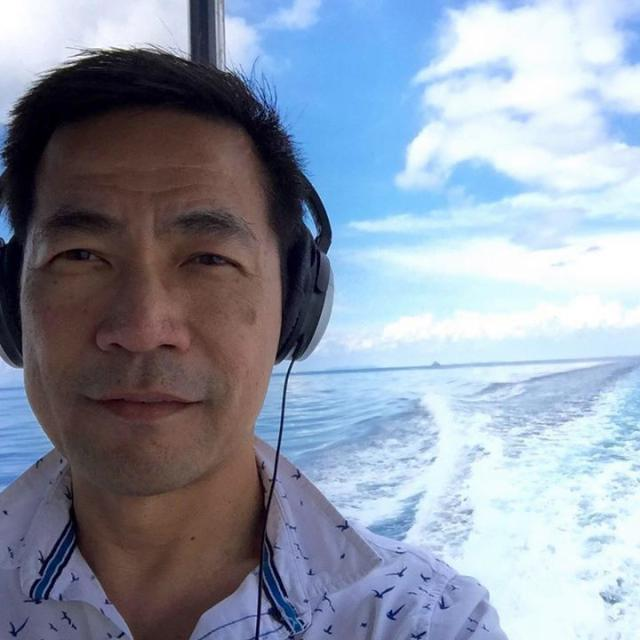adult: (0, 50, 492, 640)
